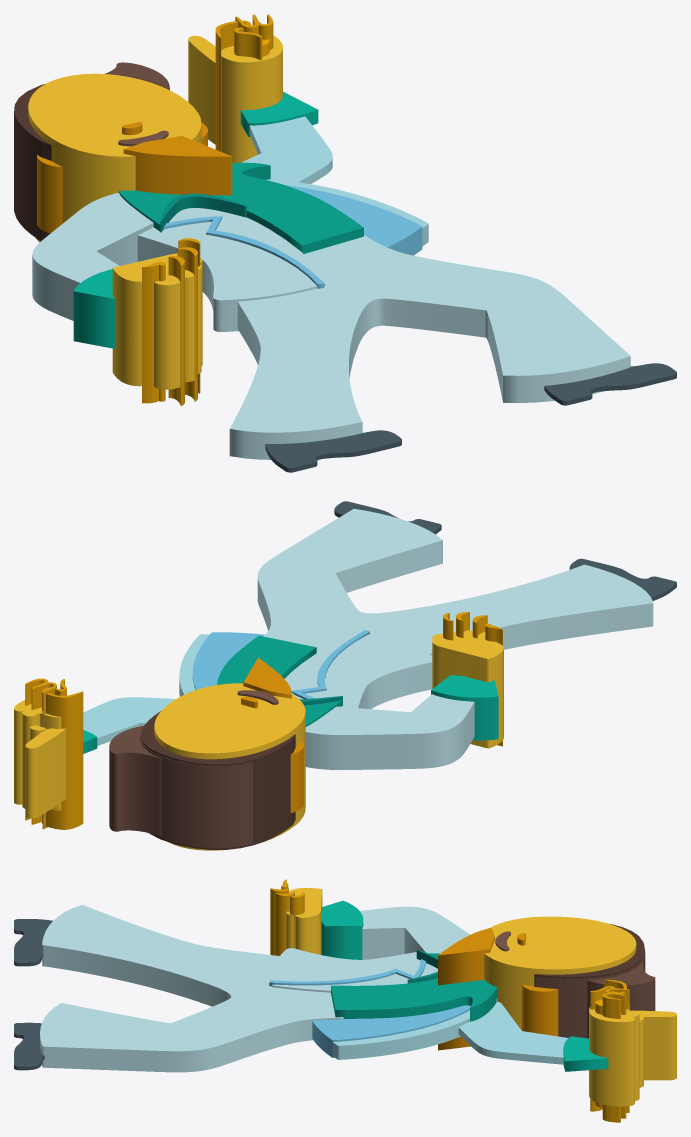
The model's file is emoji_u1f57a.glb.
3 views of the same model, one above another, from view 1: azimuth 30°, elevation 25°; view 2: azimuth 150°, elevation 25°; view 3: azimuth 270°, elevation 25° (orthographic). The views are drawn at different scales.
Parts seen in each view (by area): view 1: emoji_u1f57a; view 2: emoji_u1f57a; view 3: emoji_u1f57a.
Part boxes in pixels (x1,y1,x2,y2): emoji_u1f57a: [14, 14, 676, 472]; emoji_u1f57a: [14, 501, 676, 850]; emoji_u1f57a: [14, 879, 676, 1122].
Size of the model in its own units: 0.0187 by 0.007 by 0.0342.
